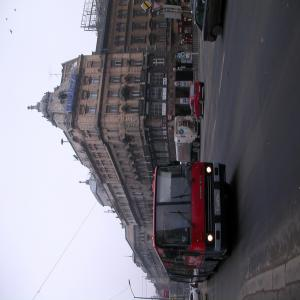Vehicle-registration-plate: (217, 194, 221, 213)
